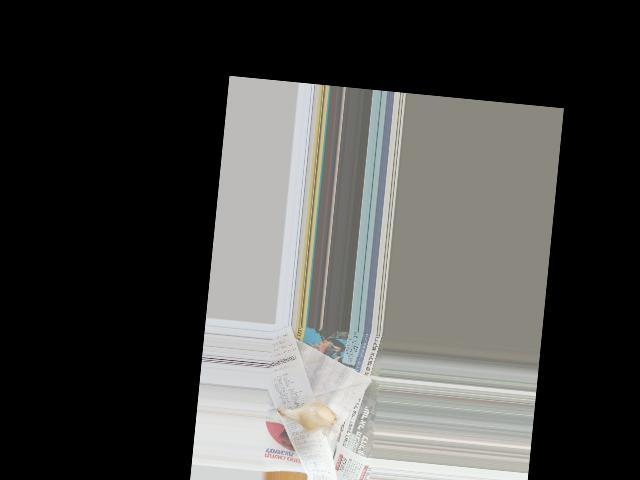onion: (292, 397, 338, 432)
